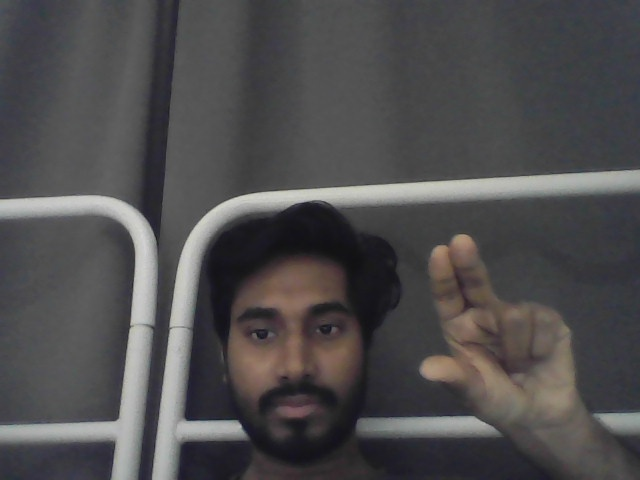no: (416, 233, 583, 430)
